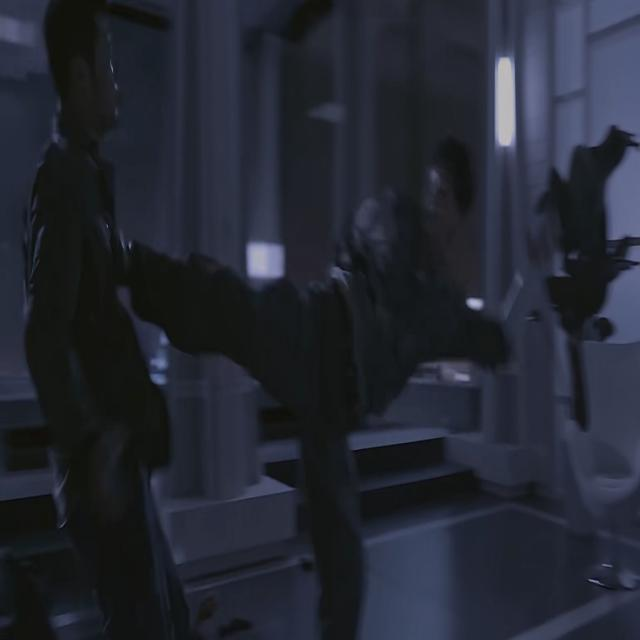fight: (19, 0, 524, 640)
